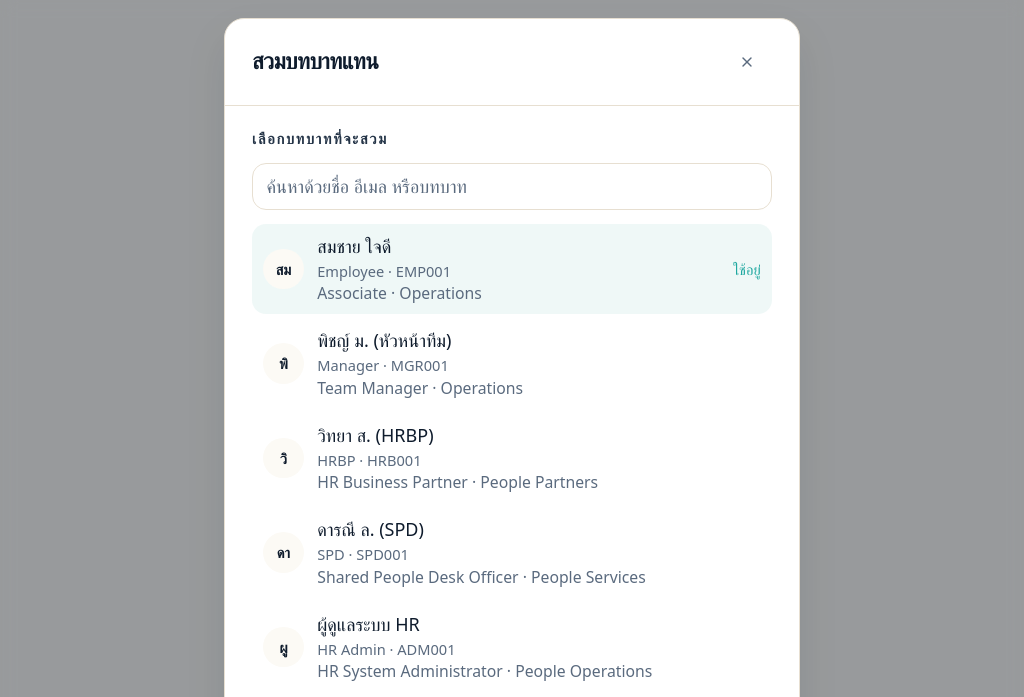
Scenario: PersonaSwitcher — SF realignment › AC4: search input filters the persona list
This screenshot has width=1024, height=697.
In the search field with placeholder "ค้นหาด้วยชื่อ อีเมล หรือบทบาท": (512,187) [252,163,772,210], type "apinya"
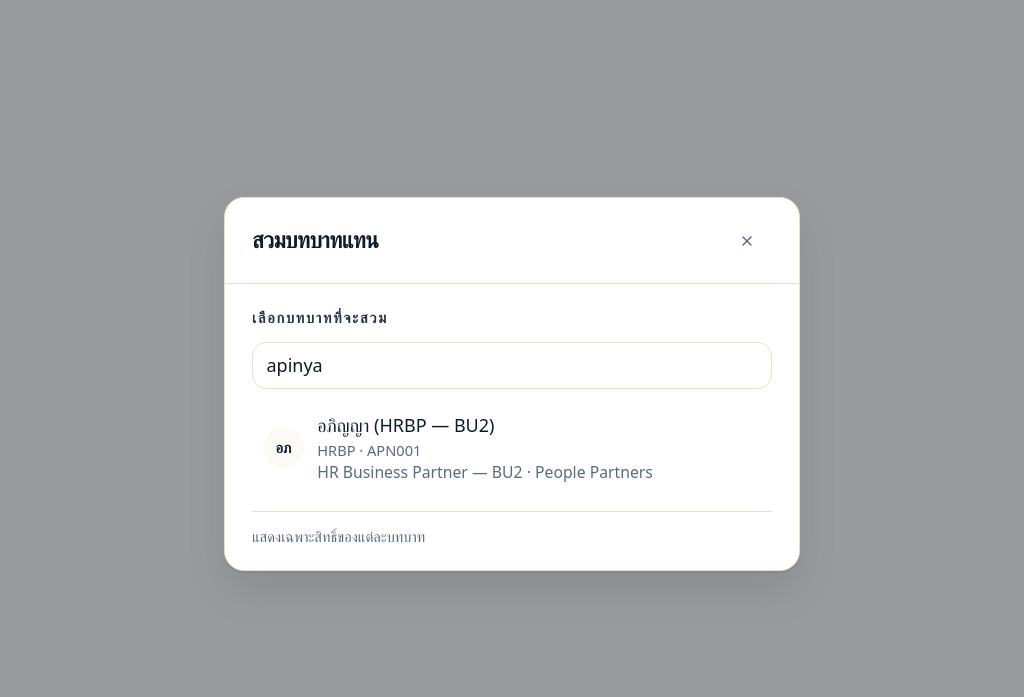
Check: the text "อภิญญา (HRBP — BU2)" is shown, box [317,413,494,437]
